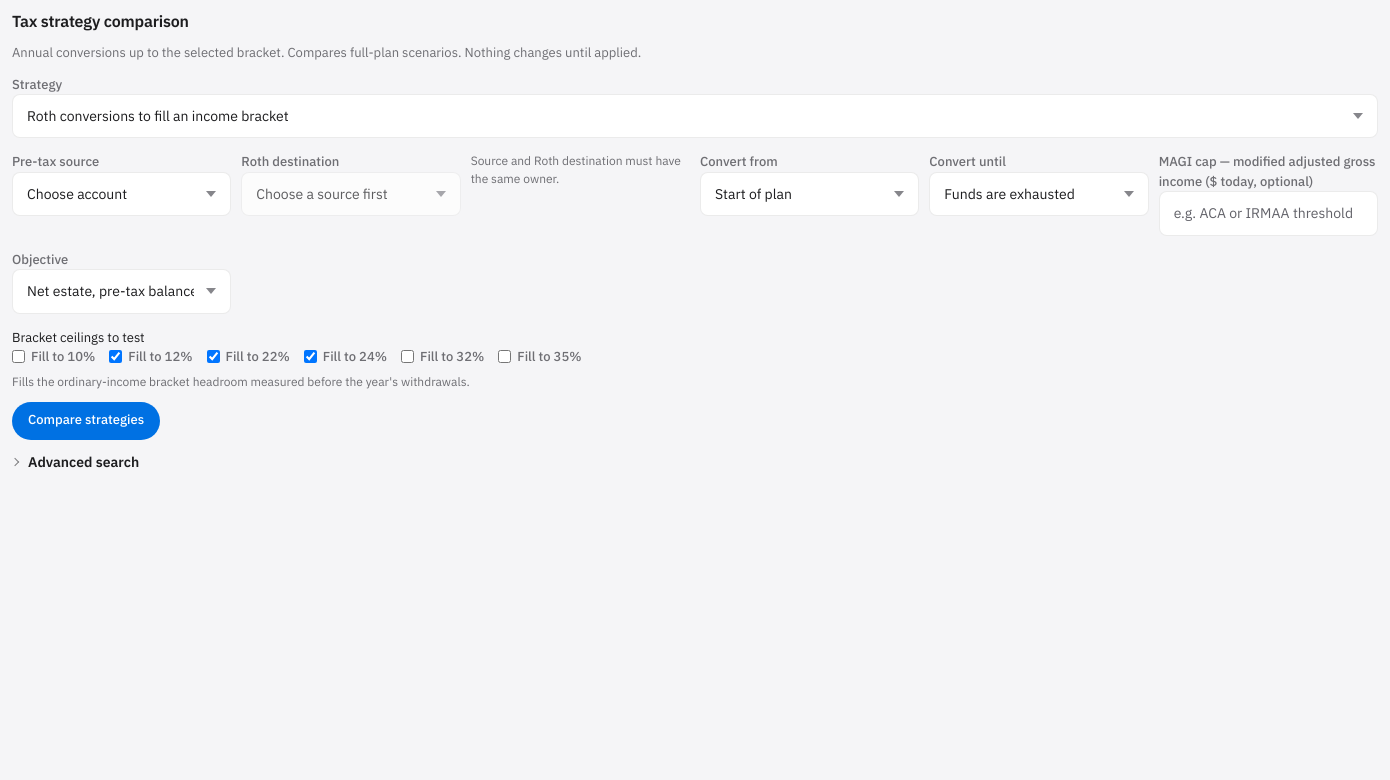
Test case: TaxStrategyOptimizer › runs the comparison with the chosen window and brackets and applies the best candidate
This screenshot has width=1390, height=780.
Select "IRA (Primary person)" in the dropdown labelled "Pre-tax source" at (122, 194), box [12,172,231,216]
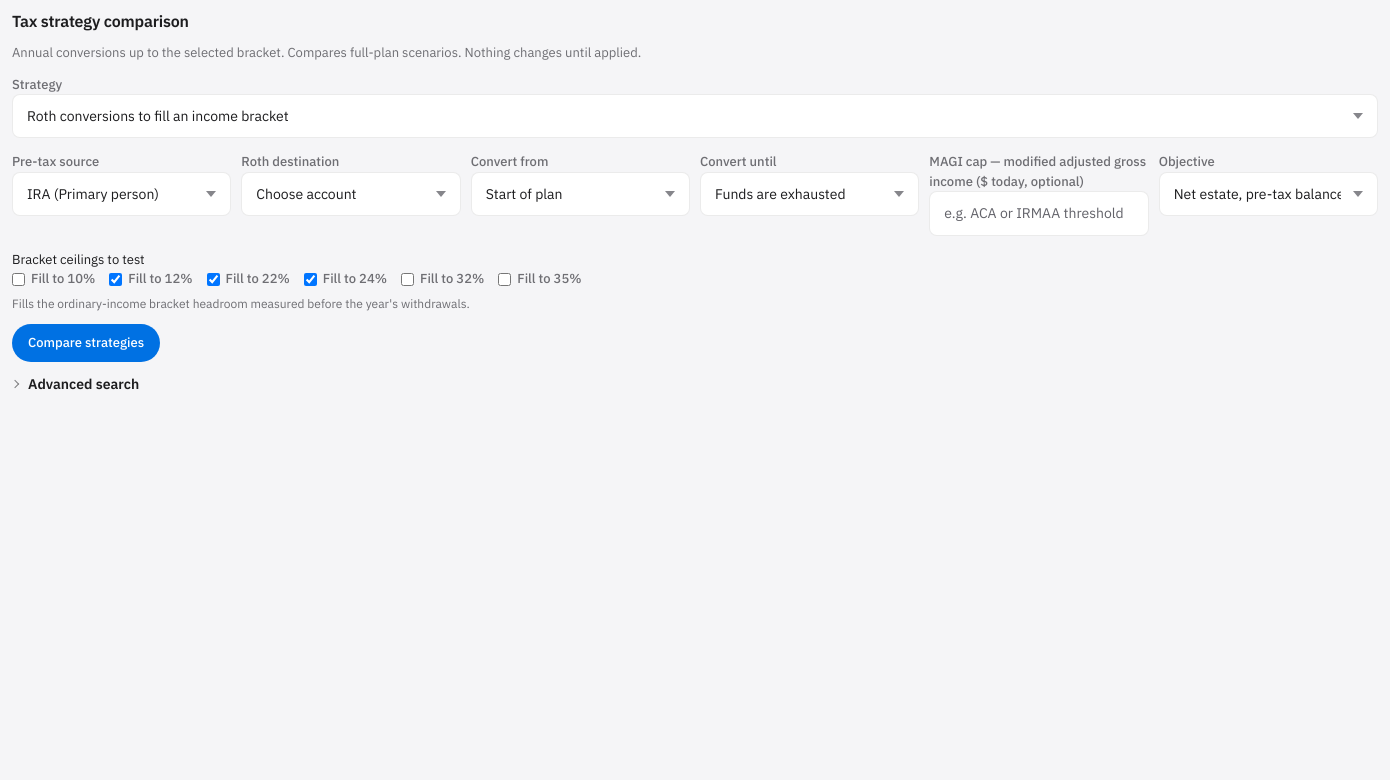
Select "Roth (Primary person)" in the dropdown labelled "Roth destination" at (351, 194), box [241,172,461,216]
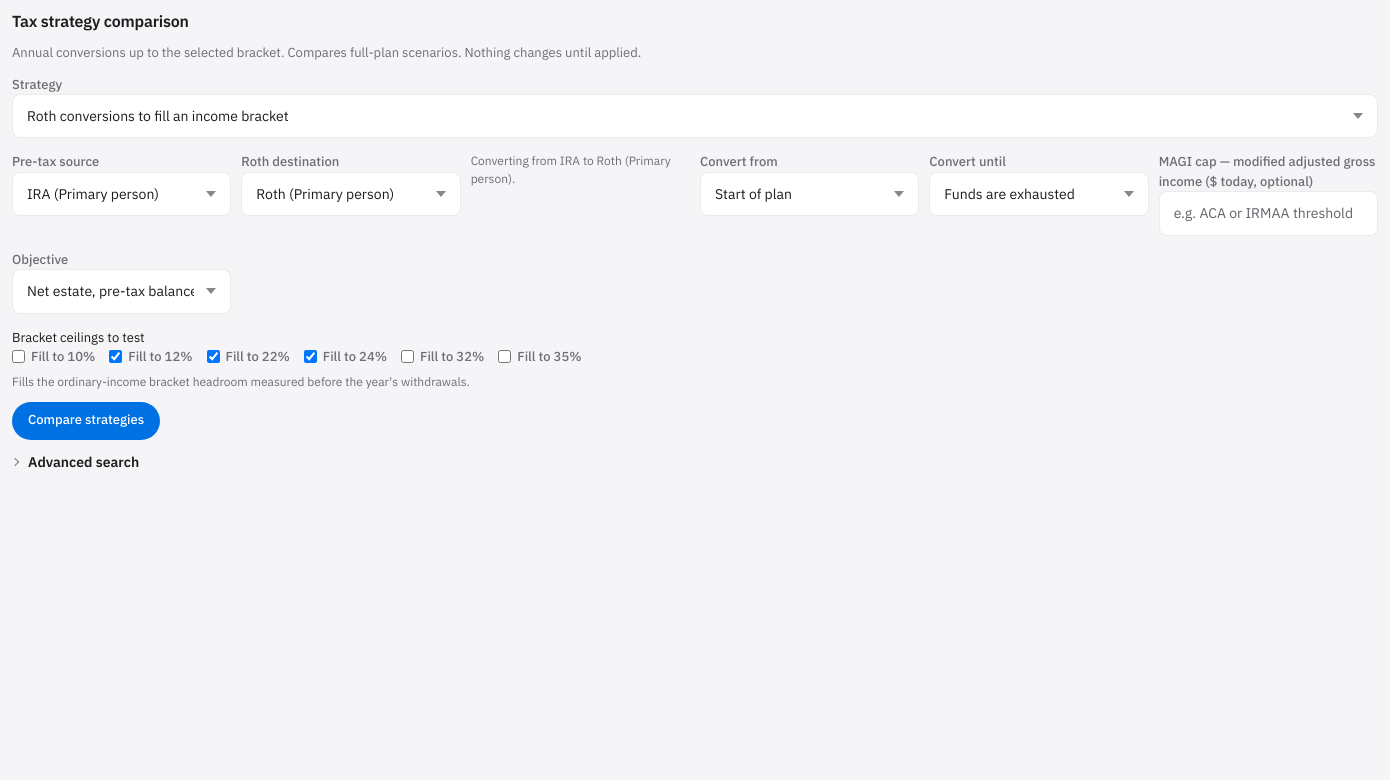
Select "Retire" in the dropdown labelled "Convert from" at (810, 194), box [700,172,919,216]
Click the checkbox labelled "Fill to 24%" at (310, 357), box [304,350,317,363]
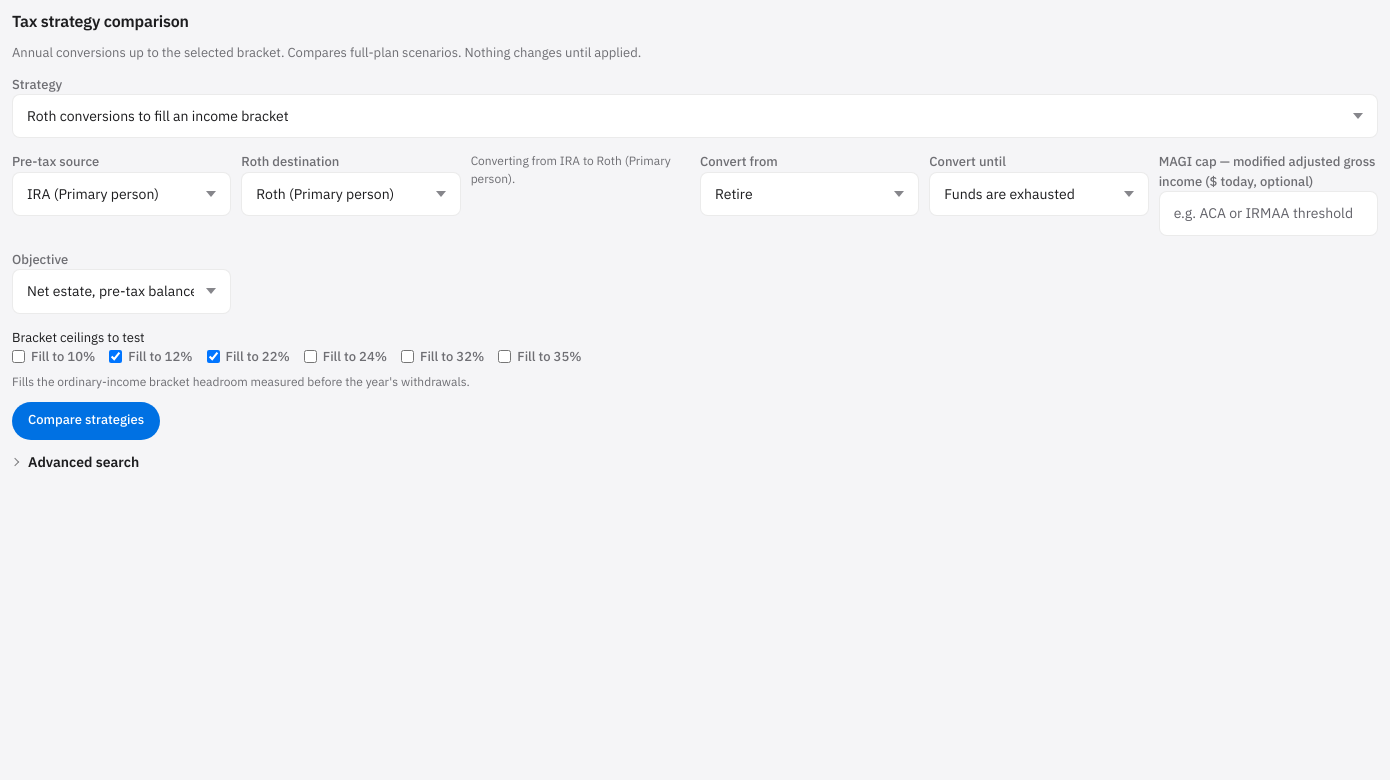
Type "150000" into the field labelled "MAGI cap" at (1268, 214), box [1159,192,1378,236]
Select "Lifetime income taxes (lower is better)" in the dropdown labelled "Objective" at (122, 291), box [12,269,231,314]
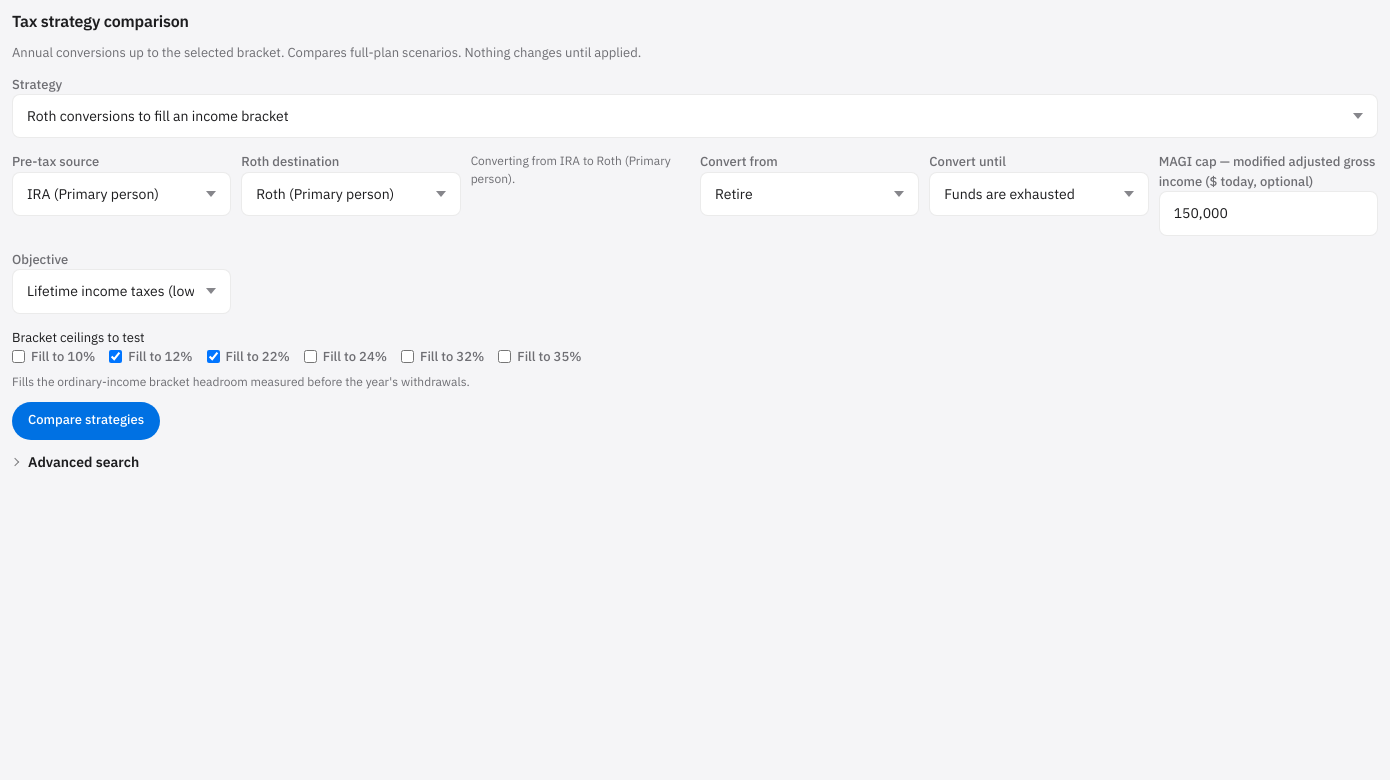
Click the button "Compare strategies" at (86, 421), box [12,402,160,440]
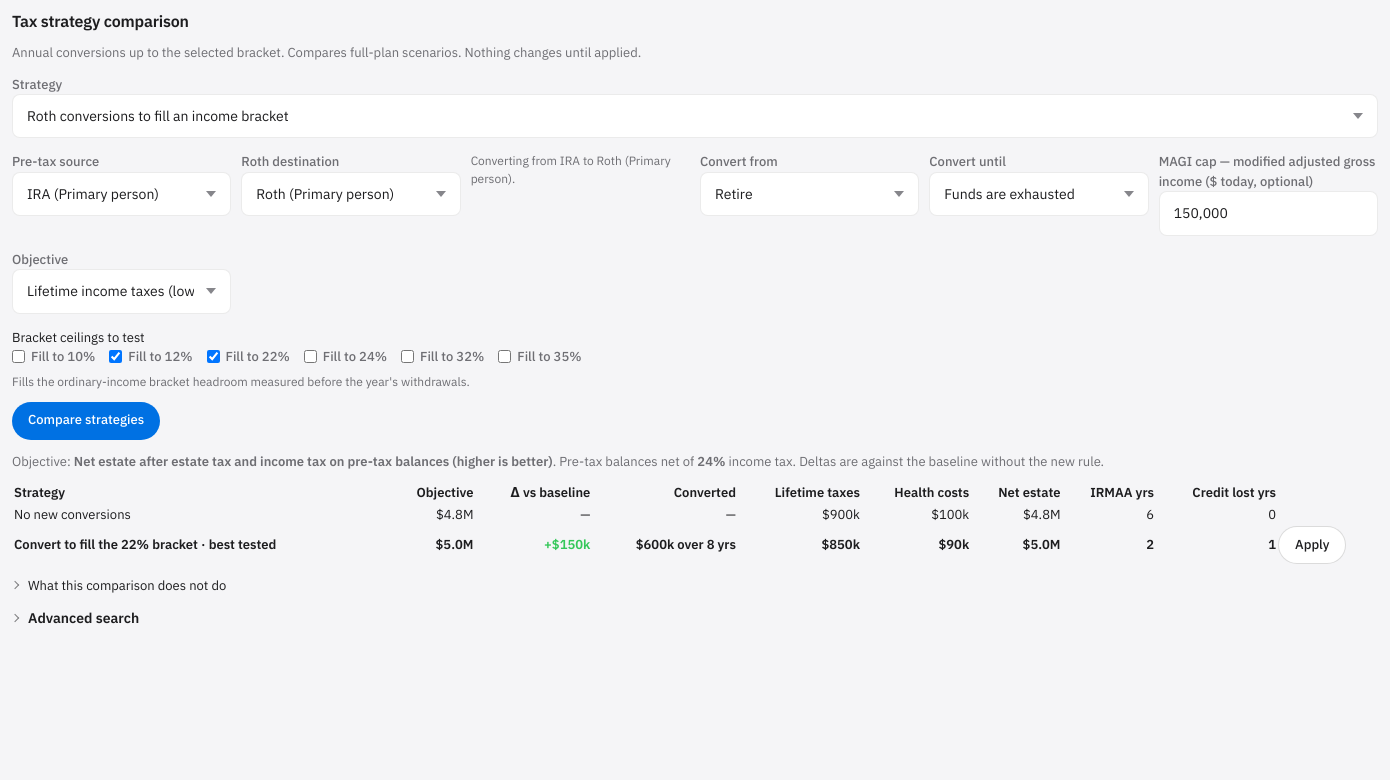
expect the table named "Strategy comparison" shows "Convert to fill the 22% bracket · best tested": met, box [12,481,1378,566]
expect the text "Pre-tax balances net of" shows "Pre-tax balances net of 24% income tax.": met, box [12,453,1104,470]
expect the table named "Strategy comparison" shows "+$150k": met, box [544,536,590,553]
Click the button "Apply" at (1312, 545), box [1278,526,1346,564]
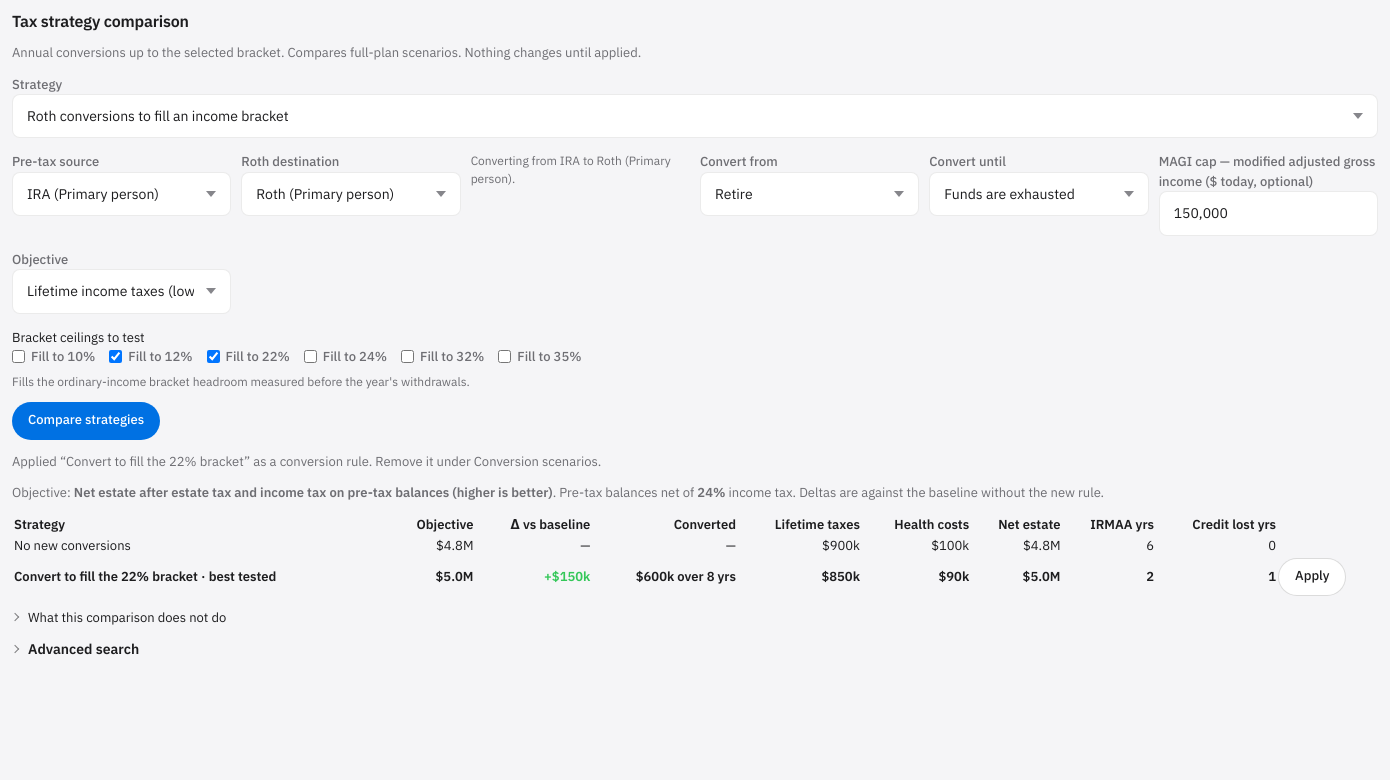
expect the message shows "Applied": met, box [12,453,66,470]
